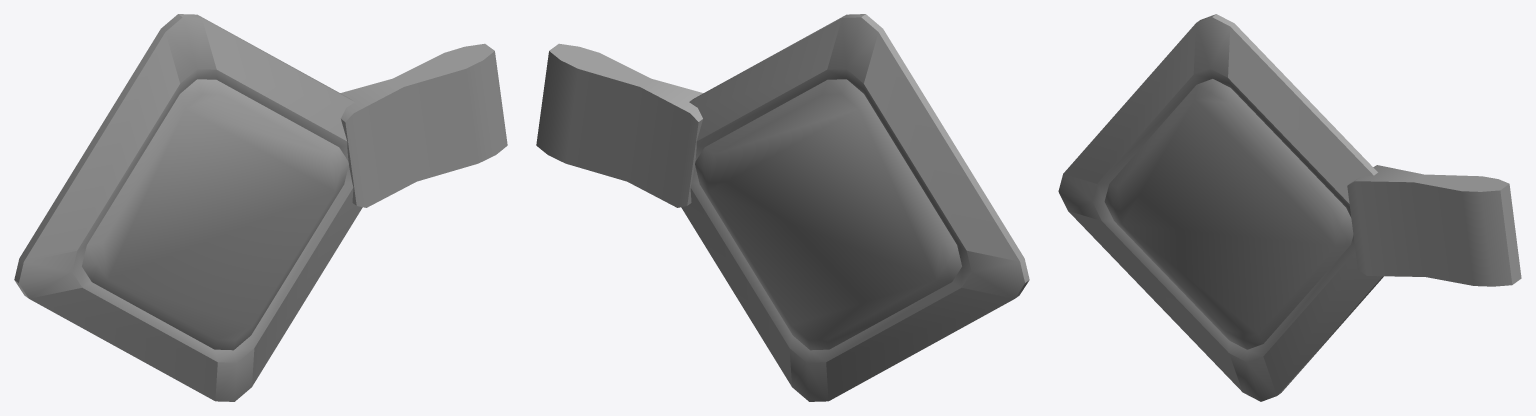
Rendered from MeshKeychain3_0_GeomSubset_1.obj.
3 views of the same model, side by side, from view 1: azimuth 30°, elevation 25°; view 2: azimuth 150°, elevation 25°; view 3: azimuth 330°, elevation 25° (orthographic). The views are drawn at different scales.
Parts seen in each view (by area): view 1: MeshKeychain3_0_GeomSubset_1; view 2: MeshKeychain3_0_GeomSubset_1; view 3: MeshKeychain3_0_GeomSubset_1.
Boxes of the visible parts, x1,y1,x2,y2 form: MeshKeychain3_0_GeomSubset_1: (14, 14, 507, 401); MeshKeychain3_0_GeomSubset_1: (536, 14, 1029, 401); MeshKeychain3_0_GeomSubset_1: (1058, 14, 1521, 401).
Size of the model in its own units: 0.0552 by 0.0431 by 0.005.
1 material, 1 textured.
